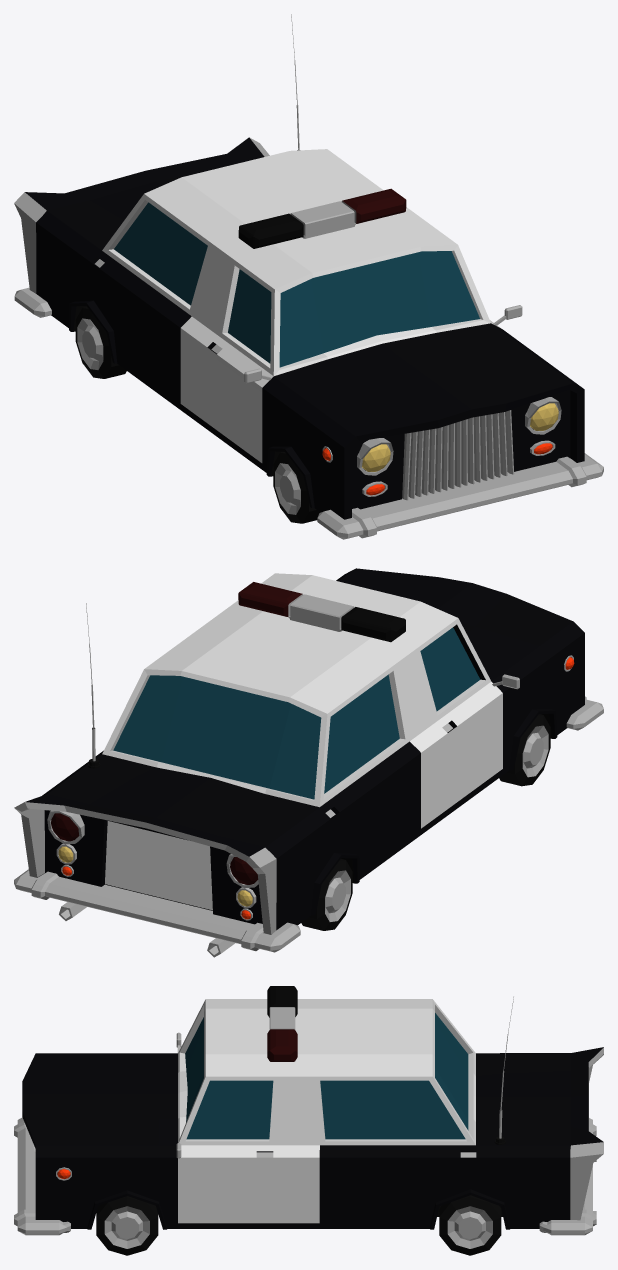
File: PoliceCar_01.FBX
3 renders of one model, top to bottom at view 1: azimuth 30°, elevation 25°; view 2: azimuth 150°, elevation 25°; view 3: azimuth 270°, elevation 25°, orthographic. The views are drawn at different scales.
Parts seen in each view (by area): view 1: PoliceCar_01, bumper_f, grill, lights, wheel_b_r, wheel_f_r, signalLights_02, signalLights_01, headLights; view 2: PoliceCar_01, bumper_b, lights, wheel_b_r, wheel_f_r, signalLights_02, signalLights_01, tailLights, bumper_f; view 3: PoliceCar_01, wheel_b_l, wheel_f_l, bumper_f, bumper_b, signalLights_01, lights, signalLights_02, interieur.
Boxes of the visible parts, x1,y1,x2,y2 form: PoliceCar_01: (14, 137, 584, 519); bumper_f: (317, 453, 603, 539); grill: (402, 410, 514, 500); lights: (290, 201, 561, 496); wheel_b_r: (75, 307, 126, 378); wheel_f_r: (273, 452, 319, 523); signalLights_02: (238, 213, 303, 248); signalLights_01: (342, 188, 406, 223); headLights: (362, 403, 558, 471); PoliceCar_01: (14, 568, 584, 934); bumper_b: (14, 869, 300, 952); lights: (47, 594, 573, 920); wheel_b_r: (301, 859, 352, 930); wheel_f_r: (499, 714, 550, 786); signalLights_02: (341, 607, 405, 642); signalLights_01: (238, 582, 302, 617); tailLights: (51, 813, 258, 884); bumper_f: (566, 696, 603, 730); PoliceCar_01: (22, 999, 603, 1229); wheel_b_l: (439, 1195, 501, 1255); wheel_f_l: (96, 1196, 158, 1255); bumper_f: (14, 1117, 70, 1235); bumper_b: (539, 1118, 596, 1235); signalLights_01: (267, 1029, 297, 1061); lights: (33, 1007, 295, 1180); signalLights_02: (267, 986, 297, 1017); interieur: (192, 1080, 451, 1139).
Bounding box in the file's own units: 27.15 × 27.19 × 57.74.
